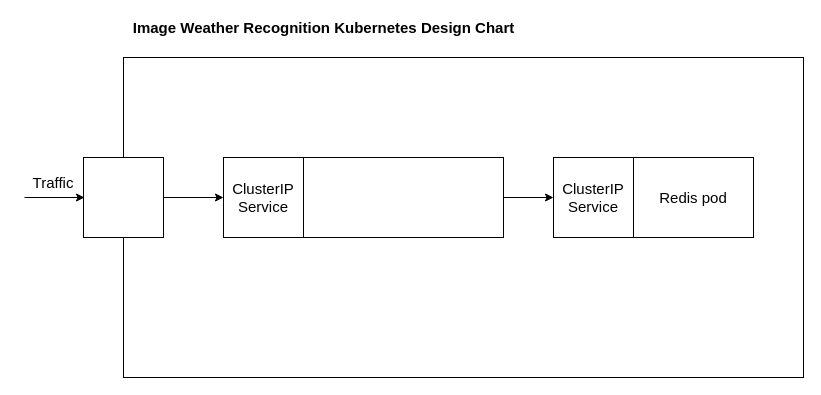
This 821x395 diagram has some shape labels left out. The centre of each missing label's shape, as x and y in pixels:
"Image-Weather-Recogniton pod" belongs at (403,197).
"Ingress NGINX Service" belongs at (123,197).
